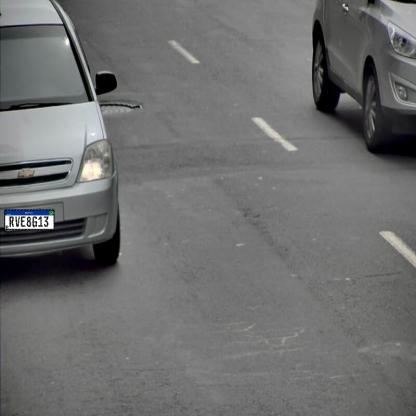PlacaM: (4, 210, 55, 230)
